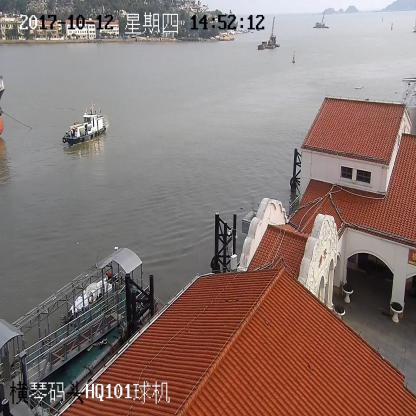Fishing Boat: (62, 106, 107, 144)
